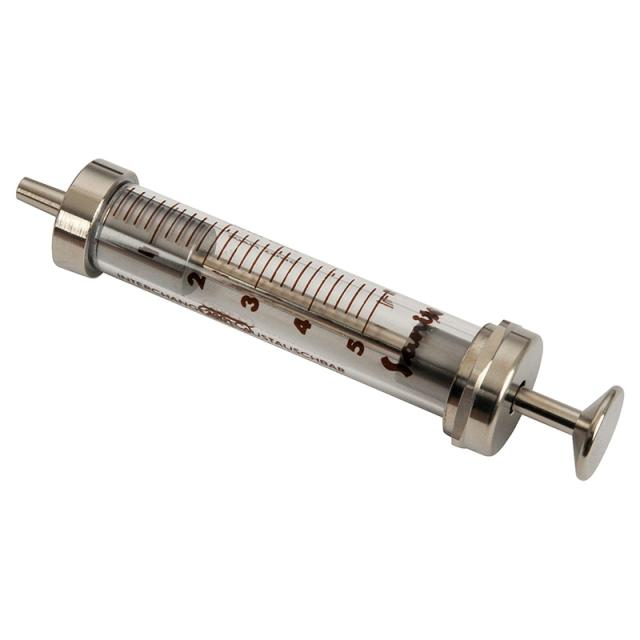syringe: (15, 156, 624, 481)
